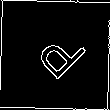P_SW: (24, 24, 86, 86)
